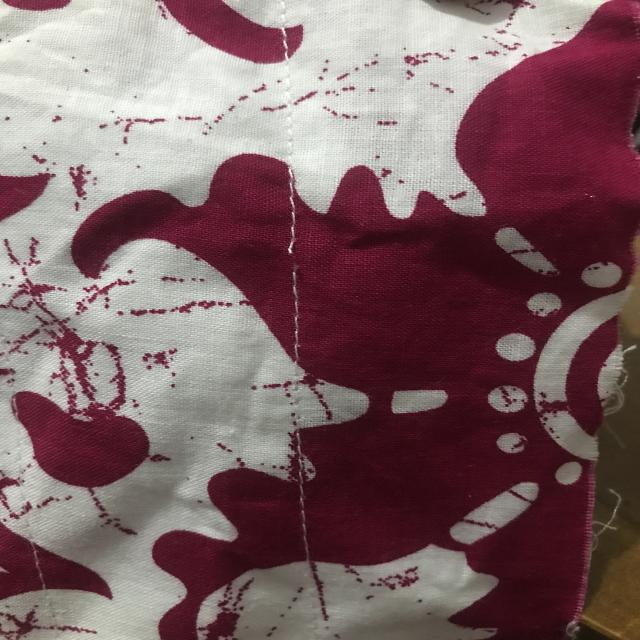broken: (281, 233, 318, 282)
good: (283, 293, 312, 346), (294, 488, 319, 546)
